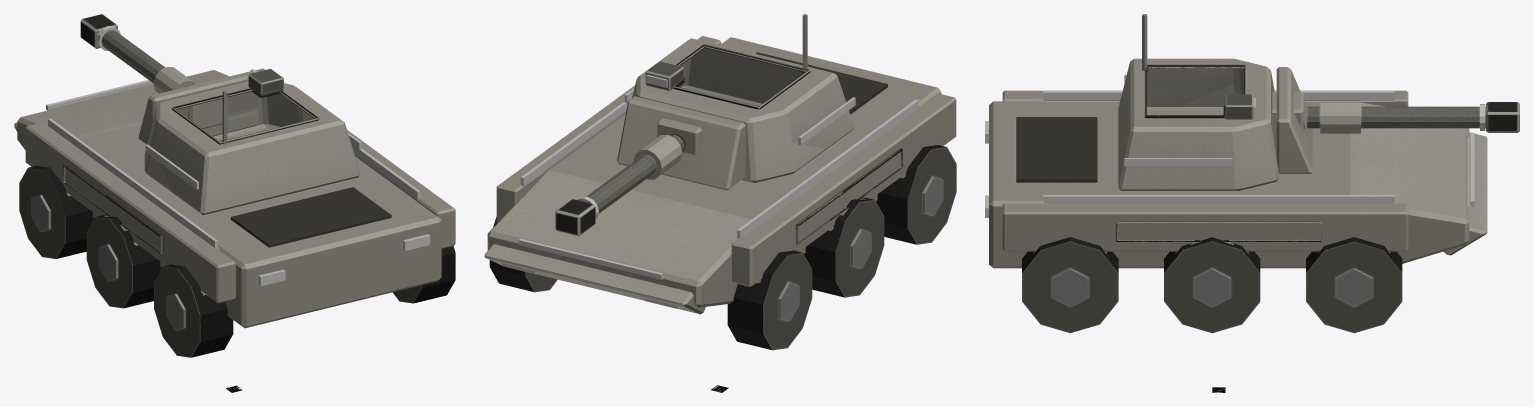
The model's file is ord_courser.fbx.
The picture shows the model from 3 angles, left to right: view 1: azimuth 30°, elevation 25°; view 2: azimuth 150°, elevation 25°; view 3: azimuth 270°, elevation 25°; orthographic projection. The views are drawn at different scales.
Visible parts, largest first — view 1: base_bar, turret_bar, wheelL3_bar, wheelL1_bar, wheelL2_bar, base_glow_running_bar, barrel_bar, wheelR3_bar, turret_glow_running_bar; view 2: base_bar, turret_bar, wheelL1_bar, wheelL3_bar, wheelL2_bar, barrel_bar, base_glow_running_bar, wheelR1_bar, turret_glow_running_bar; view 3: base_bar, turret_bar, wheelR1_bar, wheelR3_bar, wheelR2_bar, barrel_bar, base_glow_running_bar, turret_glow_running_bar.
Part boxes in pixels (bbox=[...]): base_bar: bbox=[14, 68, 455, 328]; turret_bar: bbox=[138, 68, 360, 215]; wheelL3_bar: bbox=[154, 264, 233, 357]; wheelL1_bar: bbox=[19, 165, 94, 258]; wheelL2_bar: bbox=[86, 215, 161, 308]; base_glow_running_bar: bbox=[46, 69, 430, 286]; barrel_bar: bbox=[80, 14, 228, 128]; wheelR3_bar: bbox=[393, 246, 455, 303]; turret_glow_running_bar: bbox=[145, 133, 361, 189]; base_bar: bbox=[484, 36, 956, 314]; turret_bar: bbox=[617, 14, 854, 190]; wheelL1_bar: bbox=[727, 250, 812, 350]; wheelL3_bar: bbox=[876, 145, 956, 244]; wheelL2_bar: bbox=[804, 197, 884, 297]; barrel_bar: bbox=[555, 118, 702, 236]; base_glow_running_bar: bbox=[518, 99, 918, 279]; wheelR1_bar: bbox=[489, 217, 557, 292]; turret_glow_running_bar: bbox=[624, 75, 855, 145]; base_bar: bbox=[989, 90, 1487, 268]; turret_bar: bbox=[1118, 14, 1312, 190]; wheelR1_bar: bbox=[1306, 237, 1402, 333]; wheelR3_bar: bbox=[1022, 237, 1118, 333]; wheelR2_bar: bbox=[1164, 237, 1260, 333]; barrel_bar: bbox=[1271, 91, 1519, 139]; base_glow_running_bar: bbox=[985, 91, 1474, 217]; turret_glow_running_bar: bbox=[1124, 74, 1255, 166].
Size of the model in its own units: 468 by 575 by 791.
Materials: 2 (2 with a texture image).
